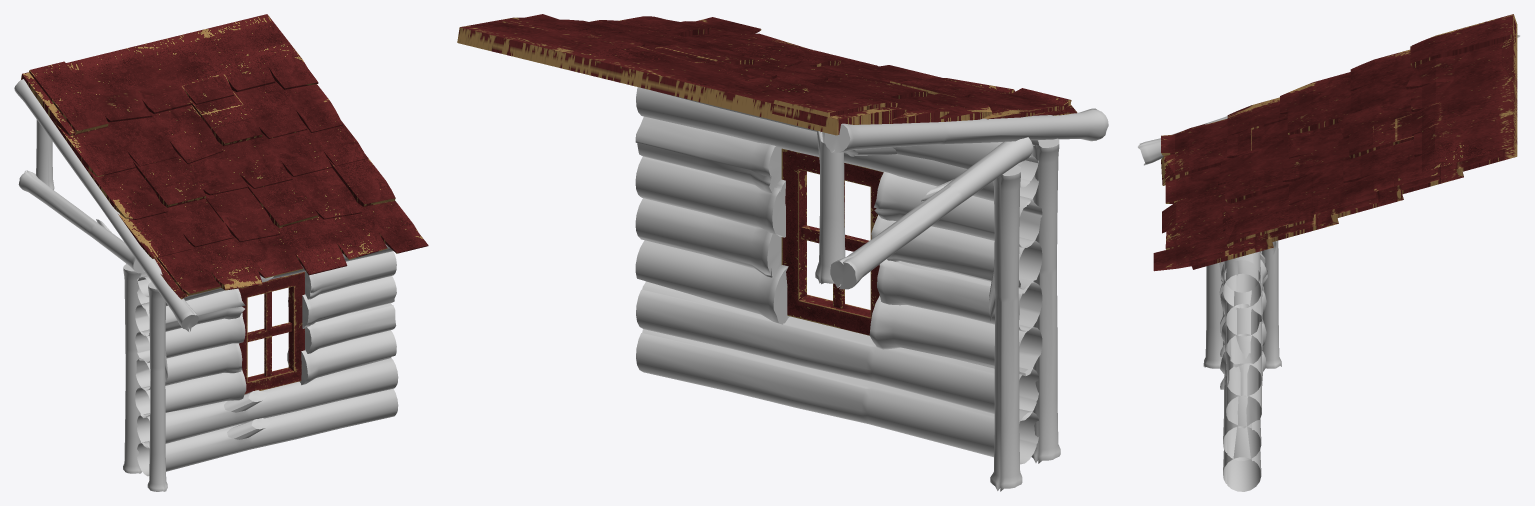
File: logCabin_middleWall_withWindow.fbx
The picture shows the model from 3 angles, left to right: view 1: azimuth 30°, elevation 25°; view 2: azimuth 150°, elevation 25°; view 3: azimuth 270°, elevation 25°; orthographic projection. The views are drawn at different scales.
Parts seen in each view (by area): view 1: polySurface64, polySurface59, polySurface63; view 2: polySurface59, polySurface64, polySurface63; view 3: polySurface64, polySurface59.
Boxes of the visible parts, <box> form: polySurface64: <box>21,14,428,299</box>; polySurface59: <box>14,79,398,491</box>; polySurface63: <box>238,271,304,394</box>; polySurface59: <box>635,87,1108,491</box>; polySurface64: <box>457,14,1077,135</box>; polySurface63: <box>781,148,883,335</box>; polySurface64: <box>1153,14,1517,271</box>; polySurface59: <box>1138,35,1519,491</box>.
Bounding box in the file's own units: 276 × 334 × 327.
